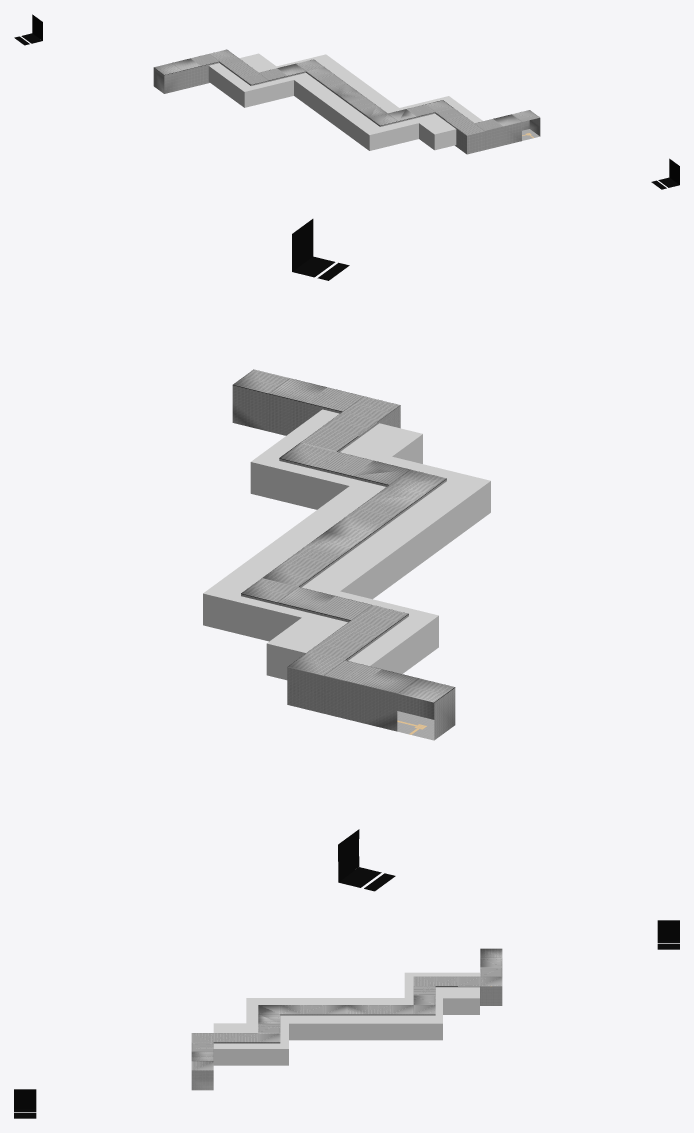
Rendered from Exit8-v10.glb.
3 renders of one model, top to bottom at view 1: azimuth 30°, elevation 25°; view 2: azimuth 150°, elevation 25°; view 3: azimuth 270°, elevation 25°, orthographic. The views are drawn at different scales.
Visible parts, largest first — view 1: Ceiling.005, ZONE_01, Ceiling.001, ZONE_03, ZONE_04, ZONE_05, Wall14.003, Ceiling.003, ZONE_02, Ceiling.004, Ceiling.006, Ceiling.002 (+1 smaller); view 2: Ceiling.005, ZONE_03, Ceiling.003, ZONE_05, ZONE_01, Ceiling.004, Ceiling.001, ZONE_02, ZONE_04, Ceiling.006, Wall14.004, Ceiling.002 (+1 smaller); view 3: Ceiling.005, ZONE_03, Ceiling.001, ZONE_05, ZONE_02, ZONE_01, Ceiling.006, ZONE_04, Ceiling.004, Ceiling.003, Wall14.004, Ceiling.002 (+1 smaller).
Part boxes in pixels (x1,y1,x2,y2): Ceiling.005: (153,49,539,135); ZONE_01: (208,53,293,107); Ceiling.001: (230,65,463,125); ZONE_03: (301,73,393,131); ZONE_04: (343,104,419,150); ZONE_05: (400,96,482,150); Wall14.003: (445,118,540,154); Ceiling.003: (153,49,497,134); ZONE_02: (276,54,351,100); Ceiling.004: (232,63,406,124); Ceiling.006: (14,15,679,189); Ceiling.002: (17,14,673,189); Ceiling.005: (233,369,455,737); ZONE_03: (255,494,439,599); Ceiling.003: (235,373,455,740); ZONE_05: (250,409,422,509); ZONE_01: (266,591,438,680); Ceiling.004: (278,427,431,639); Ceiling.001: (288,427,446,644); ZONE_02: (203,555,355,641); ZONE_04: (339,456,490,550); Ceiling.006: (292,219,395,890); Wall14.004: (232,385,400,438); Ceiling.002: (292,230,388,891); Ceiling.005: (191,948,502,1070); ZONE_03: (300,998,388,1040); Ceiling.001: (236,976,457,1042); ZONE_05: (213,1023,288,1065); ZONE_02: (388,998,442,1040); ZONE_01: (404,972,479,1014); Ceiling.006: (14,920,679,1118); ZONE_04: (246,998,300,1040); Ceiling.004: (236,976,457,1042); Ceiling.003: (191,948,502,1069); Wall14.004: (191,1042,235,1090); Ceiling.002: (14,920,679,1118).
Size of the model in its own units: 0.19 by 0.00994 by 0.3.
41 materials, 30 textured.
